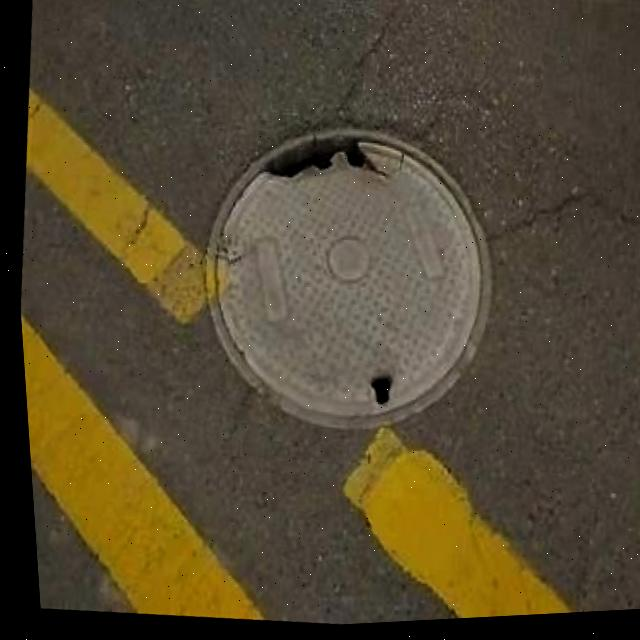manhole: (170, 92, 511, 460)
